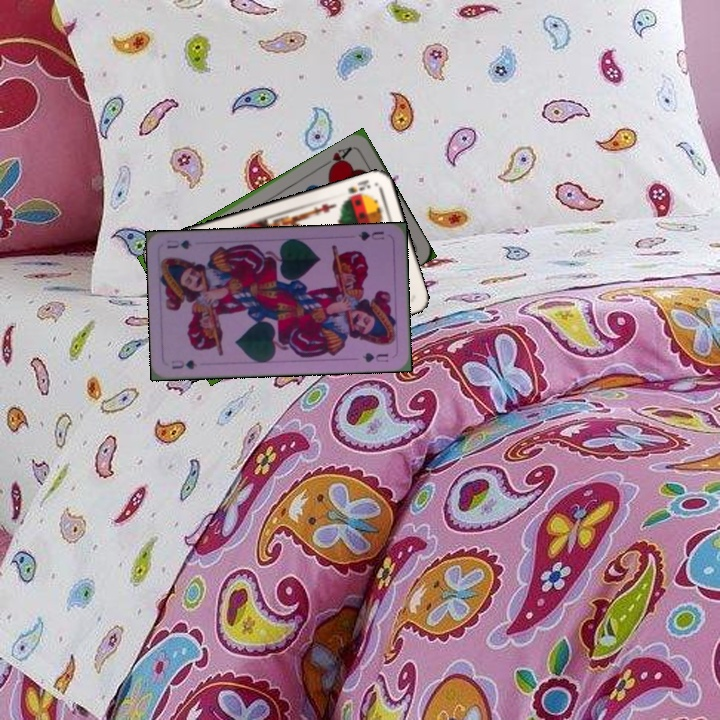GU: (354, 227, 387, 243), (167, 356, 200, 372)
HA: (319, 143, 355, 173)
SK: (344, 176, 373, 196)
